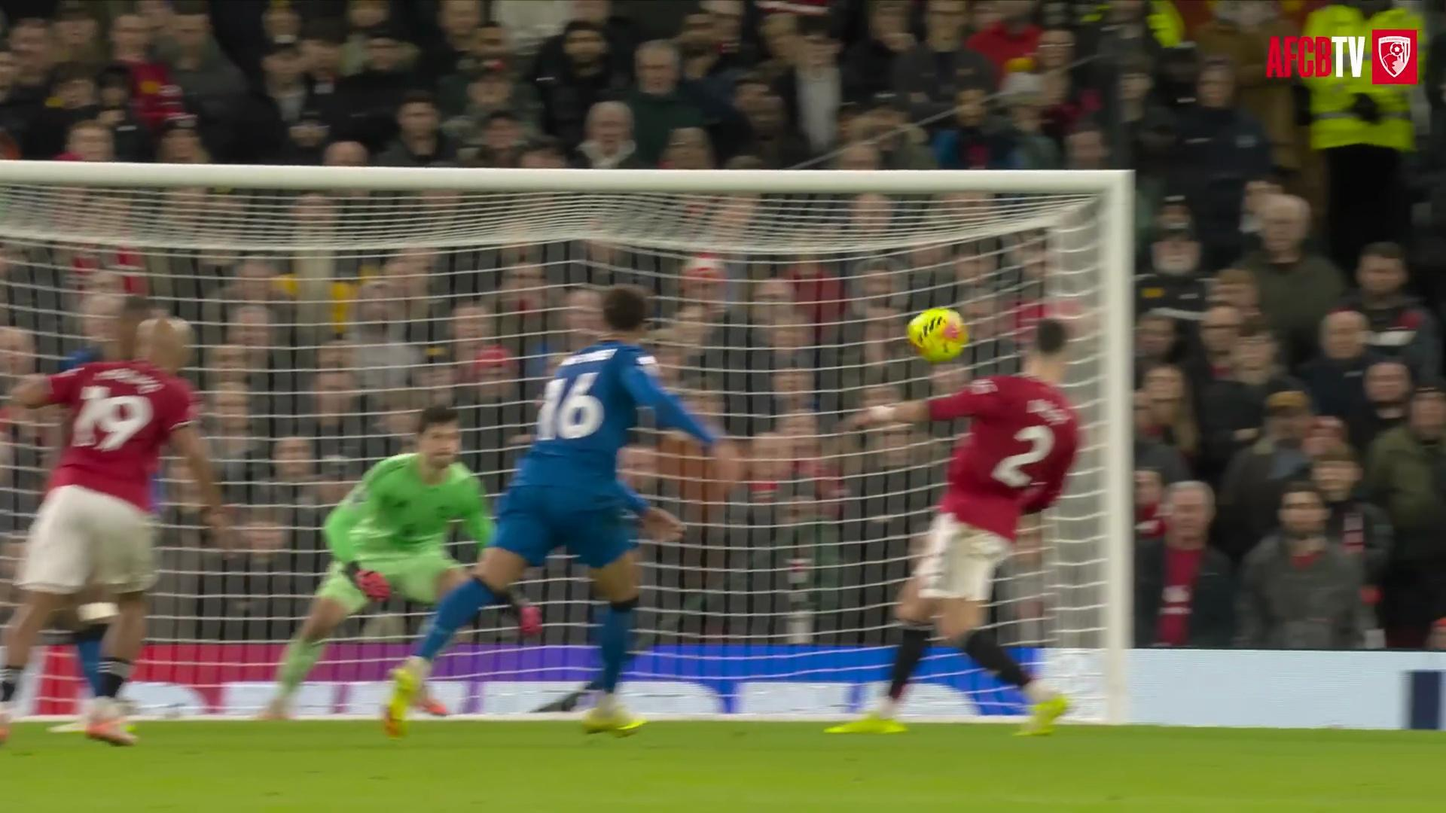football: (908, 308, 967, 362)
player: (384, 285, 737, 735), (828, 318, 1077, 733), (0, 361, 226, 744), (262, 406, 493, 718), (61, 297, 119, 371)
